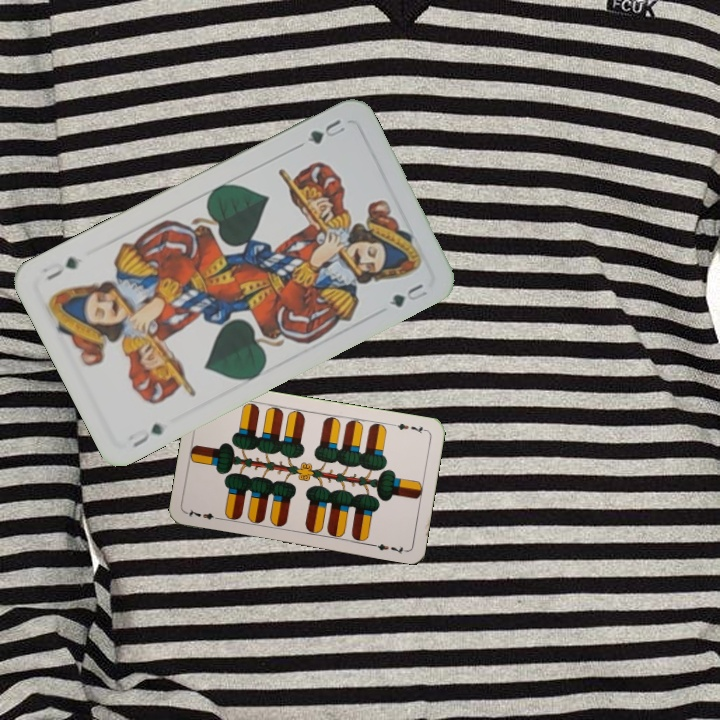E7: (389, 419, 429, 436), (183, 505, 223, 522)
GU: (303, 115, 348, 147), (124, 419, 166, 450)
